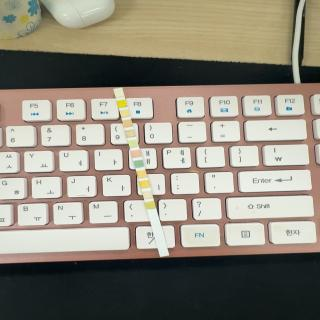mark: (130, 150, 142, 157), (134, 160, 144, 168), (137, 170, 147, 178), (140, 181, 150, 188), (120, 110, 129, 117), (123, 120, 132, 127), (129, 140, 138, 147), (117, 100, 127, 106), (126, 131, 136, 137), (142, 192, 152, 198), (146, 202, 156, 208), (115, 91, 124, 97)
